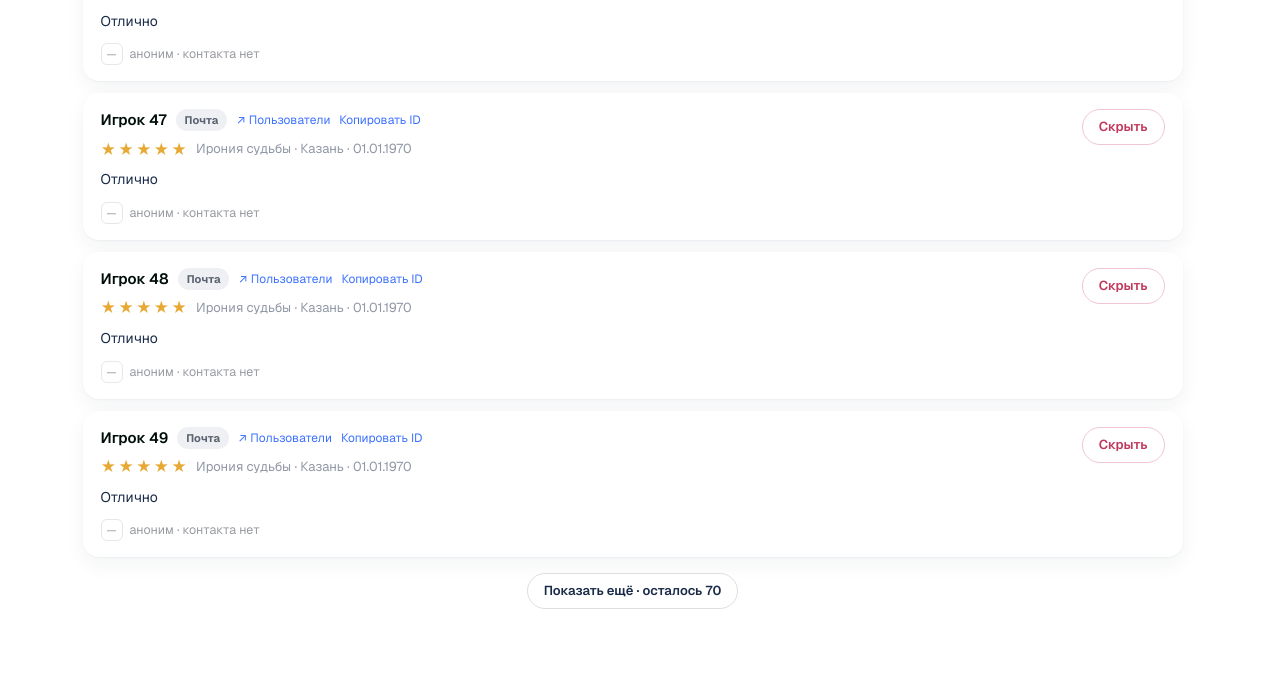
Test: AdminReviewsPage › renders fifty at a time and starts over when the list changes
The image size is (1280, 681).
(page scrolled)
Click the button "Показать ещё · осталось 70": (632, 591) [527,573,738,609]
(page scrolled)
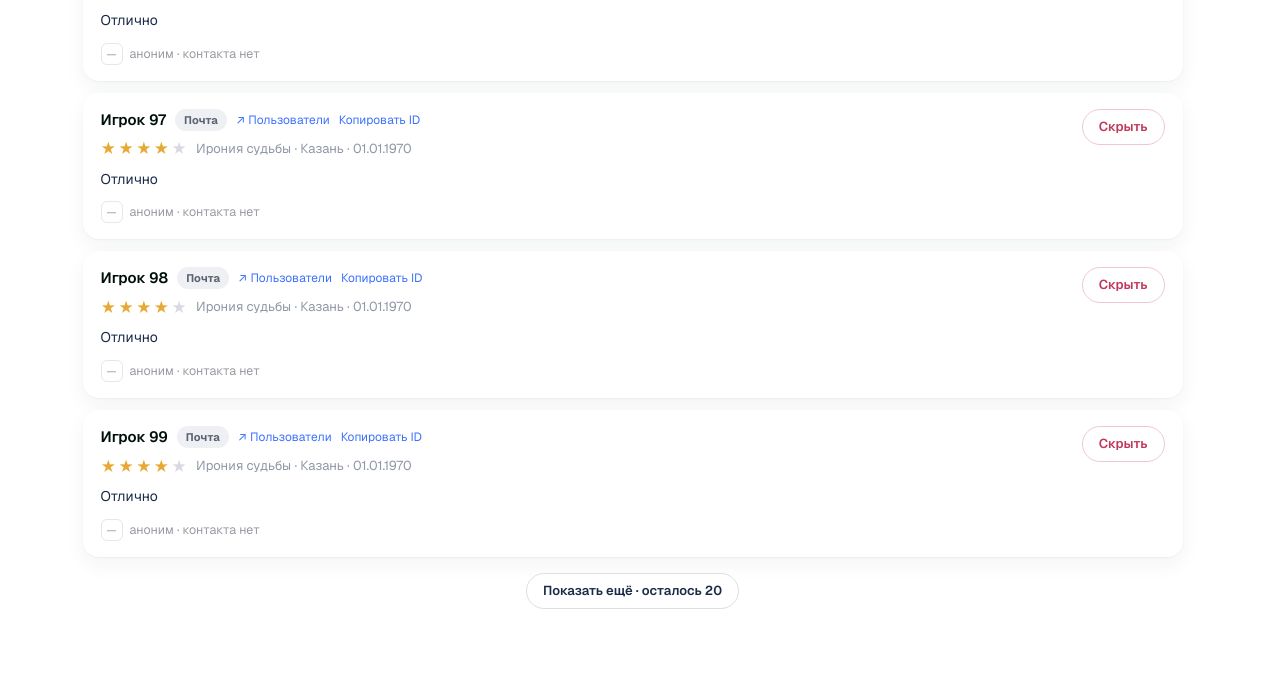
Click the button "Показать ещё · осталось 20": (633, 591) [526,573,739,609]
(page scrolled)
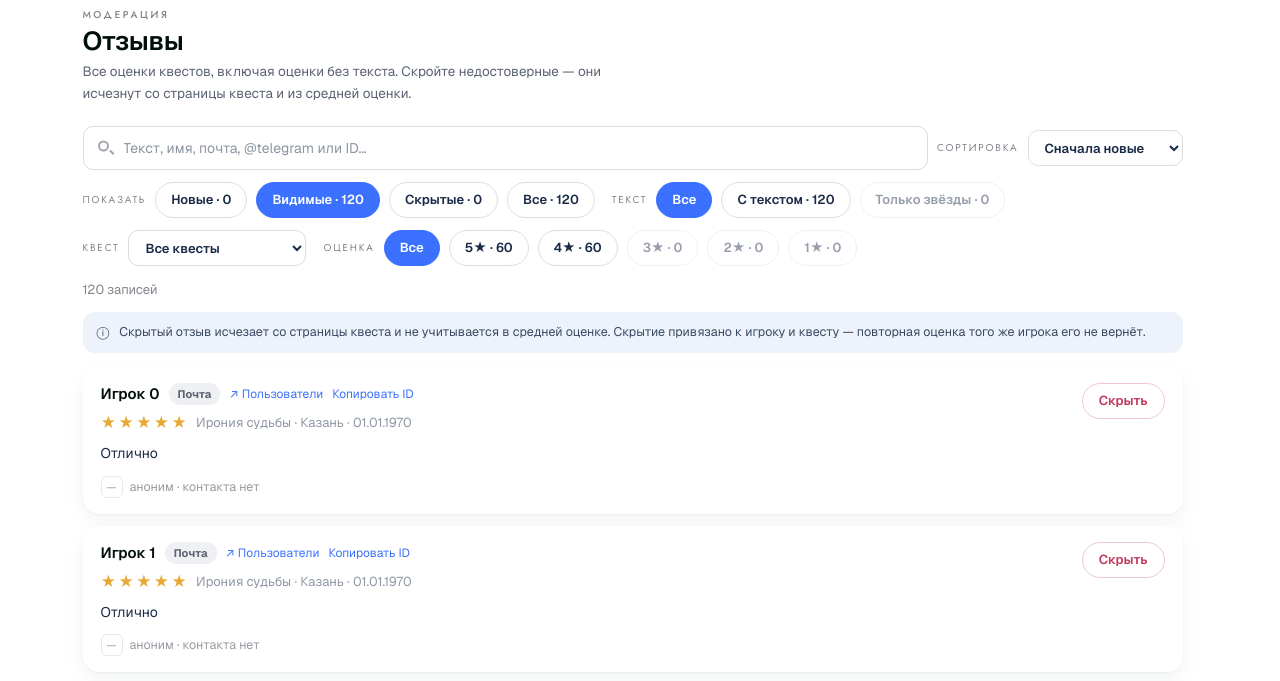
Check: the button "Показать ещё" is gone
Click the button "4★ · 60": (578, 248) [538,230,618,266]
(page scrolled)
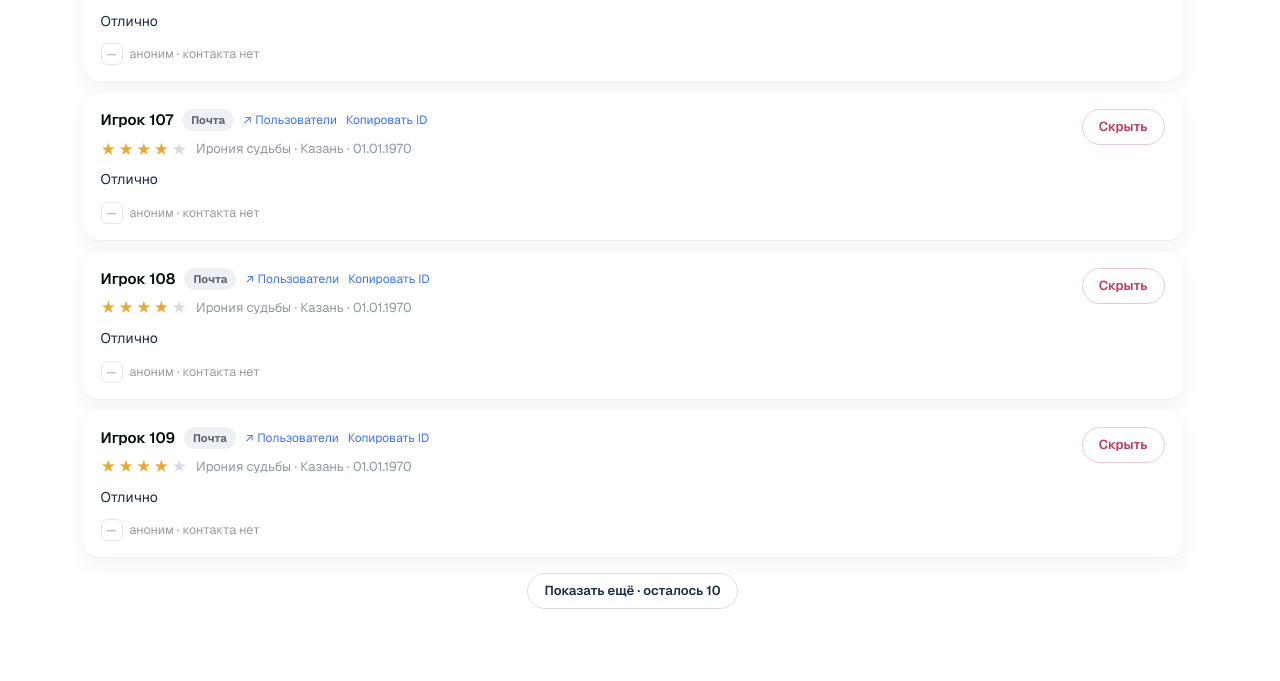
Check: the button "Показать ещё · осталось 10" is shown, box [528,573,738,609]
